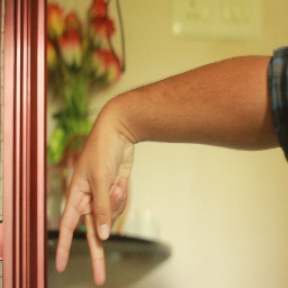Y: (52, 110, 141, 286)
